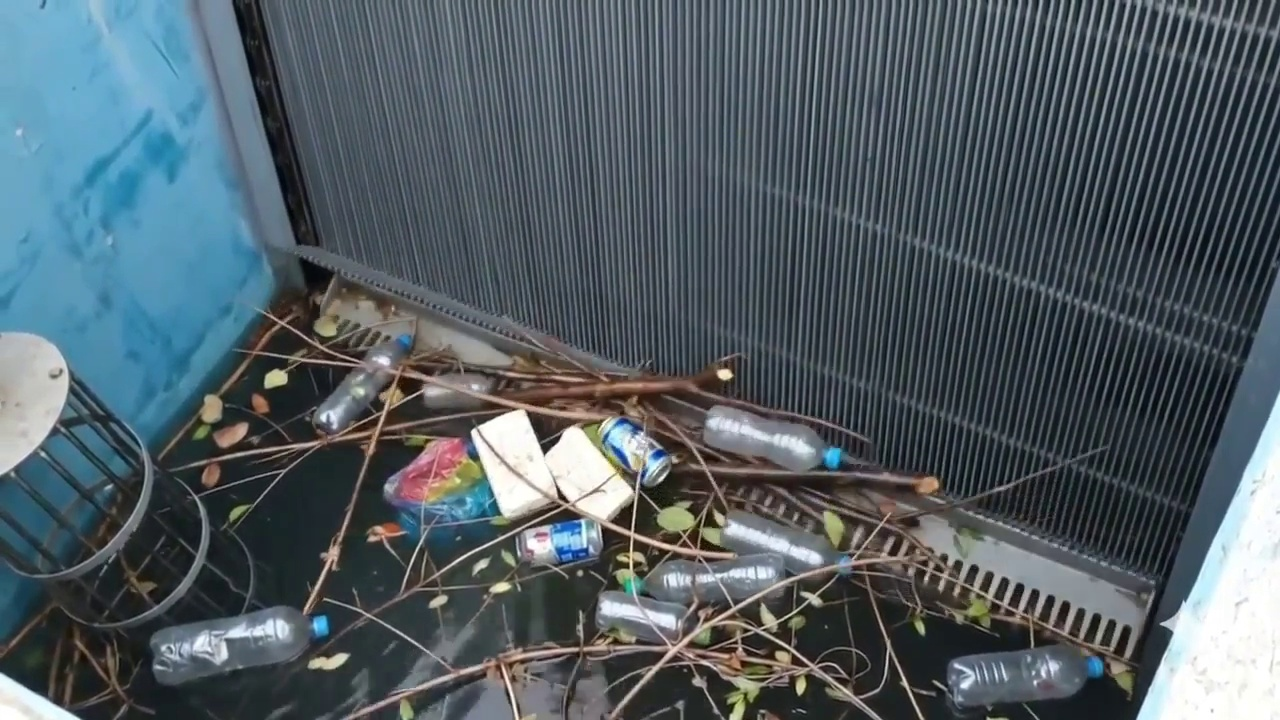debris: (322, 323, 1121, 706), (149, 606, 328, 685)
